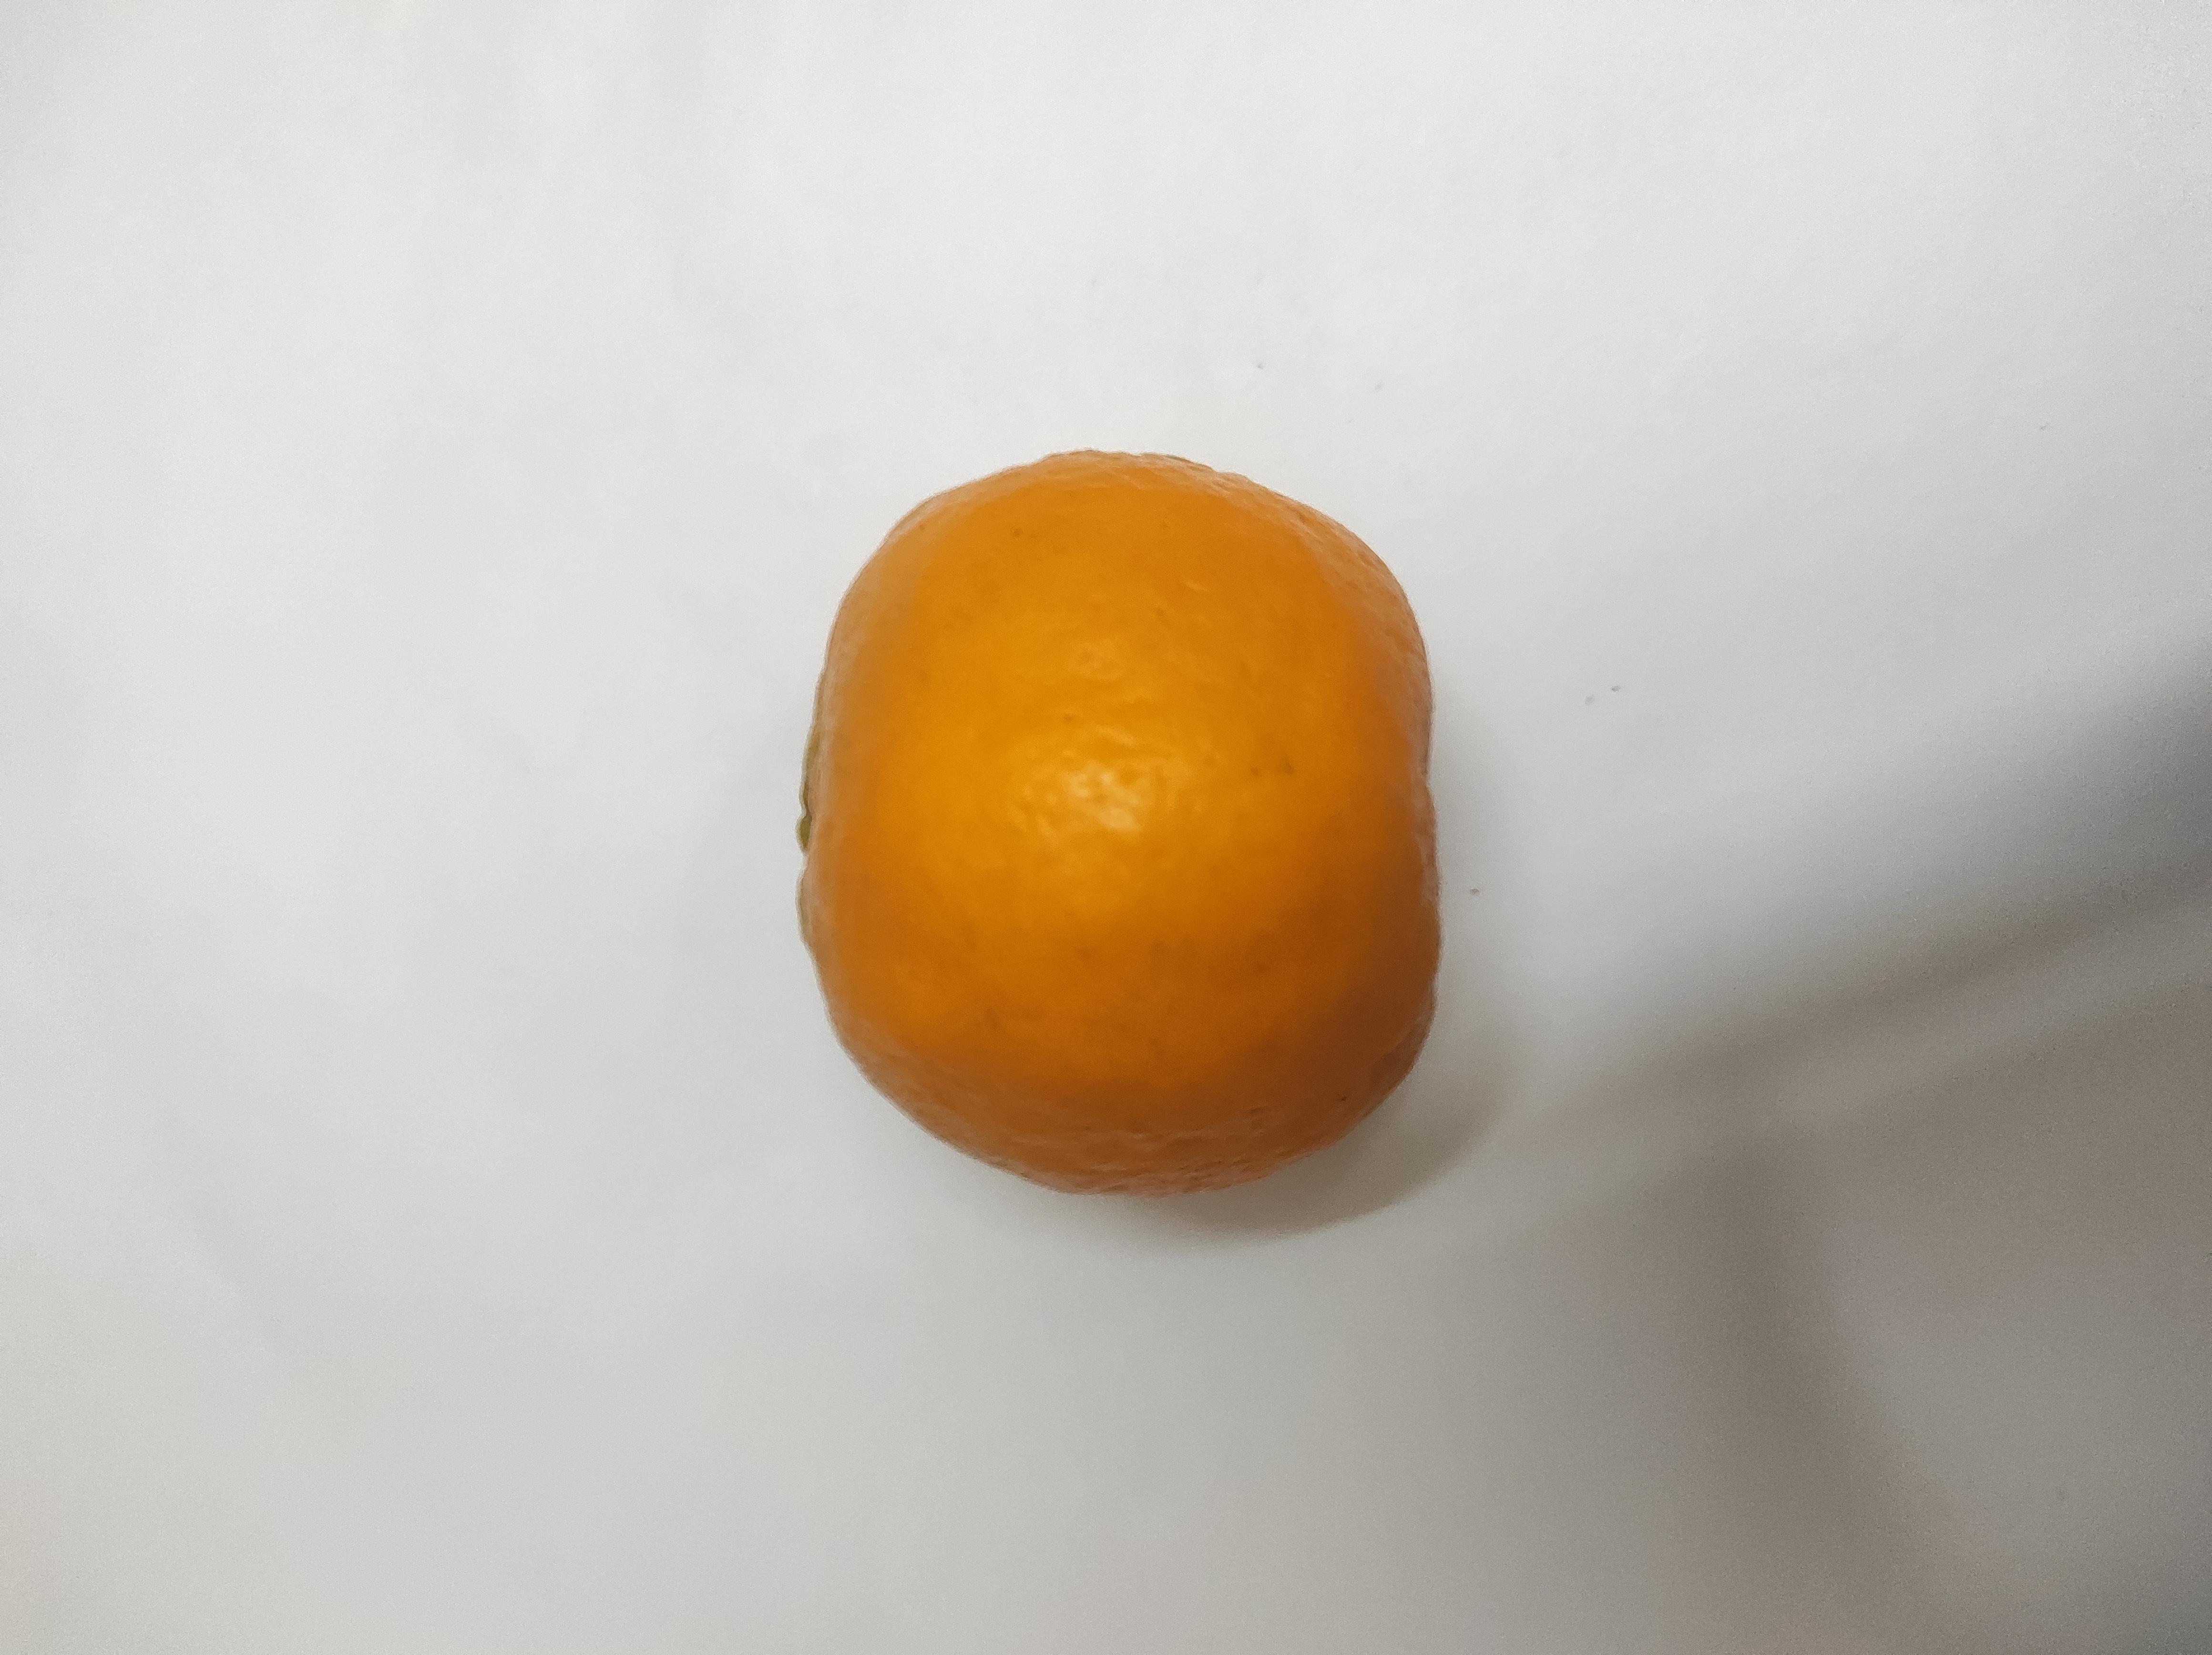Ripe: (796, 462, 1445, 1187)
